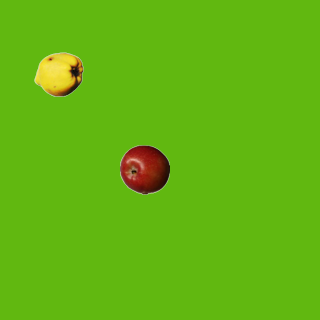Apple Braeburn: (119, 144, 169, 194)
Quince: (33, 49, 83, 99)
